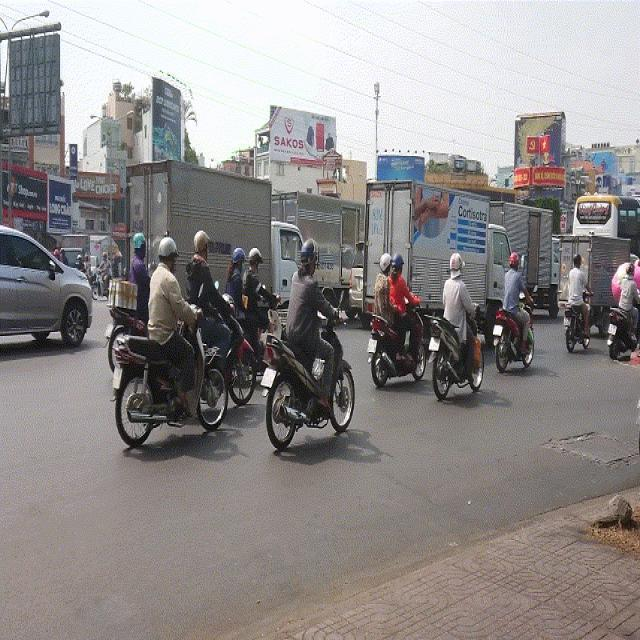Helmet: (294, 236, 323, 275), (156, 235, 180, 269), (191, 228, 213, 259), (128, 227, 148, 260), (445, 251, 467, 277), (245, 247, 264, 275), (229, 243, 247, 269), (392, 251, 409, 276), (376, 251, 393, 274), (505, 250, 522, 272), (572, 252, 585, 269)
bike: (111, 287, 231, 444), (260, 305, 358, 451), (369, 292, 427, 386), (428, 309, 486, 399), (491, 289, 539, 371), (561, 290, 594, 352)
number-plate: (261, 365, 275, 387), (367, 338, 377, 353), (429, 337, 439, 351), (494, 324, 503, 336)
rider: (147, 233, 200, 418), (286, 238, 342, 410), (185, 228, 232, 380), (442, 253, 476, 382), (389, 252, 422, 364), (371, 253, 405, 360), (503, 249, 533, 354), (245, 246, 279, 330), (124, 230, 153, 313), (224, 246, 249, 330), (567, 254, 591, 339)
